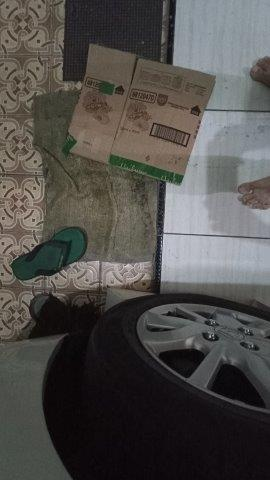kardus: (68, 45, 215, 185)
